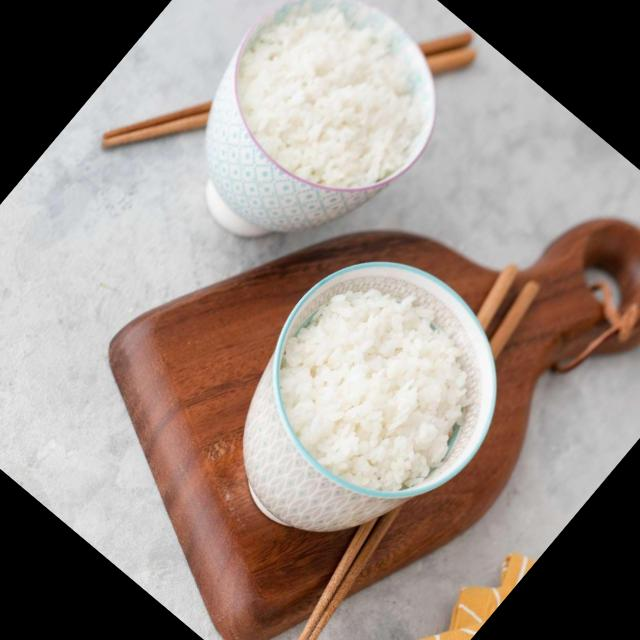rice: (282, 277, 471, 489), (239, 3, 417, 183)
